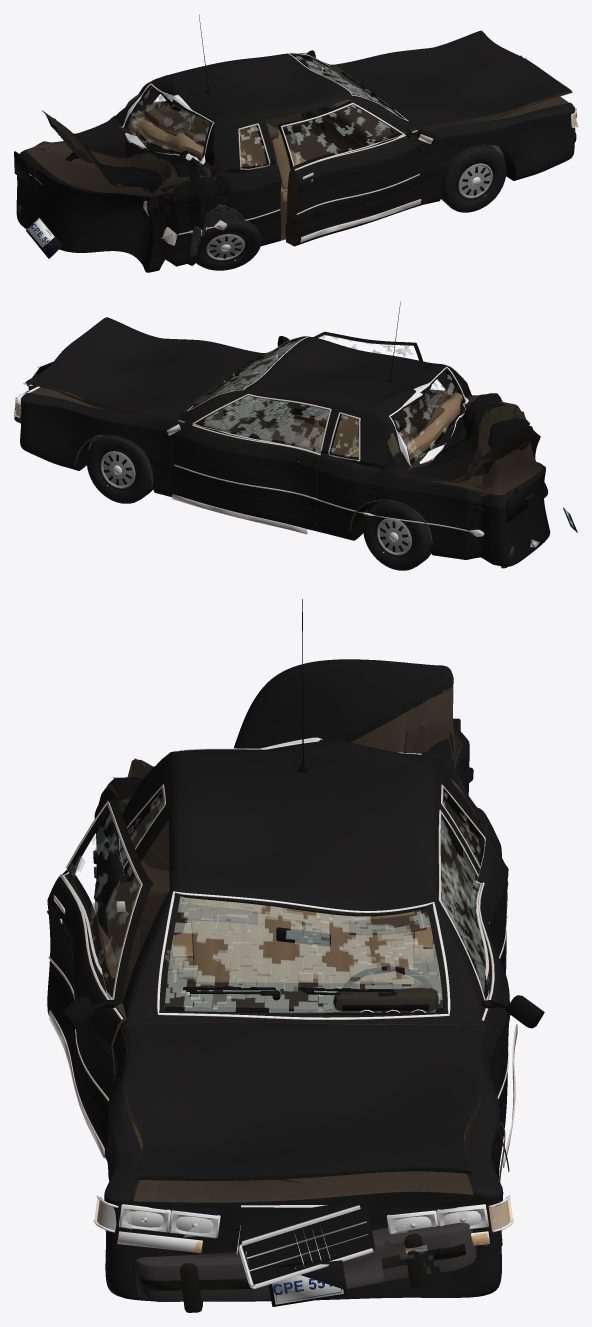
Rendered from coupe84_rear_corner_R_d2_lod1.glb.
3 views of the same model, one above another, from view 1: azimuth 30°, elevation 25°; view 2: azimuth 150°, elevation 25°; view 3: azimuth 270°, elevation 25° (orthographic). The views are drawn at different scales.
Visible parts, largest first — view 1: Body, Hood, Door_FR, Interior, Trunk, Wheel_FR_mesh, Glass, Wheel_RR_mesh, Trim_FR, Trim, Ends, Glass_FR (+1 smaller); view 2: Body, Hood, Door_FL, Interior, Trunk, Wheel_RL_mesh, Wheel_FL_mesh, Glass, Glass_FL, Trim_FL, Trim, Door_FR (+2 smaller); view 3: Body, Hood, Interior, Glass, Trunk, Ends, Door_FR, Bumper_F, Door_FL, Trim_FR, Trim, Trim_FL (+3 smaller).
Part boxes in pixels (box(x1,y1,x2,y2)): Body: box(16, 53, 574, 272); Hood: box(333, 30, 572, 130); Door_FR: box(278, 101, 424, 246); Interior: box(132, 65, 397, 201); Trunk: box(42, 110, 212, 192); Wheel_FR_mesh: box(441, 144, 506, 212); Glass: box(122, 52, 408, 170); Wheel_RR_mesh: box(195, 209, 261, 270); Trim_FR: box(281, 103, 435, 242); Trim: box(158, 14, 394, 257); Ends: box(14, 55, 577, 258); Glass_FR: box(280, 103, 401, 171); Body: box(20, 336, 550, 566); Hood: box(25, 317, 263, 422); Door_FL: box(168, 393, 332, 531); Interior: box(193, 360, 462, 459); Trunk: box(401, 393, 532, 482); Wheel_RL_mesh: box(363, 501, 431, 570); Wheel_FL_mesh: box(86, 434, 153, 503); Glass: box(186, 336, 468, 466); Glass_FL: box(196, 394, 331, 455); Trim_FL: box(163, 394, 331, 534); Trim: box(74, 301, 484, 546); Door_FR: box(266, 332, 422, 431); Body: box(94, 726, 507, 1301); Hood: box(122, 1022, 485, 1180); Interior: box(165, 896, 442, 1012); Glass: box(124, 737, 481, 1019); Trunk: box(108, 659, 476, 807); Ends: box(93, 718, 513, 1306); Door_FR: box(47, 799, 153, 1161); Bumper_F: box(135, 1222, 476, 1312); Door_FL: box(437, 808, 509, 1161); Trim_FR: box(47, 801, 142, 1158); Trim: box(93, 599, 509, 1245); Trim_FL: box(438, 809, 544, 1167).
Size of the model in its own units: 5.32 by 2.18 by 2.18.
Materials: 34 (5 with a texture image).
